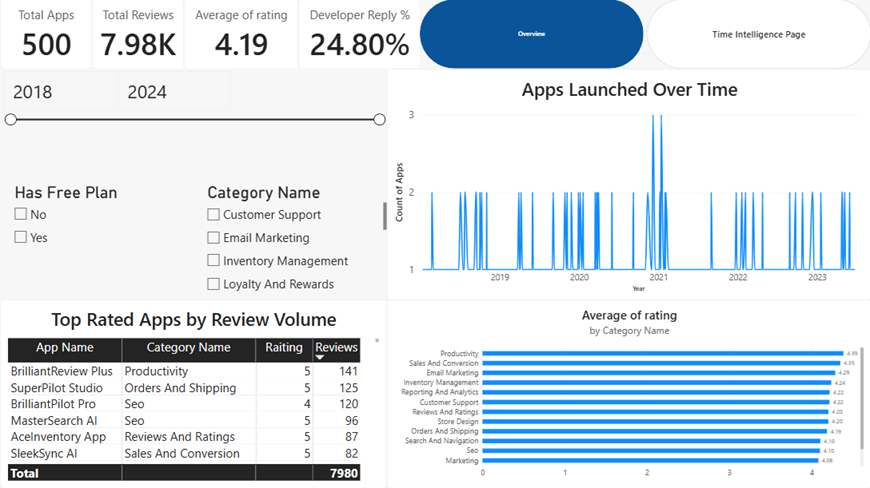

Layout of this report page (visuals, bound fields, positions):
{"tool":"powerbi","page":{"name":"Overview","canvas":[1920,1080],"ordinal":0},"visuals":[{"type":"cardVisual","fields":{"Data":["Count(apps.app_id)"]},"box":[0,0,202.5,154.5],"z":0},{"type":"cardVisual","fields":{"Data":["Sum(reviews.review_id)"]},"box":[202.5,0,202.5,154.5],"z":1000},{"type":"cardVisual","fields":{"Data":["Avg(reviews.rating)"]},"box":[405,0,252.6,154.5],"z":2000},{"type":"cardVisual","fields":{"Data":["reviews.Developer Reply %"]},"box":[657.5,0,267.2,154.5],"z":3000},{"type":"slicer","fields":{"Values":["apps.category_name"]},"box":[448.7,405.3,474.7,251.4],"z":4000},{"type":"slicer","fields":{"Values":["dim_date.Year"]},"box":[0,153.9,923.4,251.4],"z":5000},{"type":"slicer","fields":{"Values":["apps.has_free_plan"]},"box":[23.8,405.3,424.8,251.4],"z":6000},{"type":"lineChart","fields":{"Y":["Count(apps.app_id)"],"Category":["apps.launch_date.Variation.Date Hierarchy.Year","apps.launch_date.Variation.Date Hierarchy.Quarter","apps.launch_date.Variation.Date Hierarchy.Month","apps.launch_date.Variation.Date Hierarchy.Day"]},"box":[923.4,153.9,997.1,509.4],"z":7000},{"type":"barChart","fields":{"Category":["apps.category_name"],"Y":["Avg(reviews.rating)"]},"box":[750,663.3,1170.5,416.2],"z":8000},{"type":"tableEx","fields":{"Values":["apps.app name","apps.category_name","reviews.rating"]},"box":[0,663.3,750,416.2],"z":9000},{"type":"pageNavigator","box":[925.5,0,994.9,153.9],"z":10000}]}

Visuals, with their boxes in screenshot pixels (x1, y1, x2, y2), scaled from the page's 1920x1080 canvas onto the 870x488 screenshot:
cardVisual - Count(apps.app_id): {"left": 0, "top": 0, "right": 92, "bottom": 70}
cardVisual - Sum(reviews.review_id): {"left": 92, "top": 0, "right": 184, "bottom": 70}
cardVisual - Avg(reviews.rating): {"left": 184, "top": 0, "right": 298, "bottom": 70}
cardVisual - reviews.Developer Reply %: {"left": 298, "top": 0, "right": 419, "bottom": 70}
slicer - apps.category_name: {"left": 203, "top": 183, "right": 418, "bottom": 297}
slicer - dim_date.Year: {"left": 0, "top": 70, "right": 418, "bottom": 183}
slicer - apps.has_free_plan: {"left": 11, "top": 183, "right": 203, "bottom": 297}
lineChart - Count(apps.app_id) x apps.launch_date.Variation.Date Hierarchy.Year: {"left": 418, "top": 70, "right": 869, "bottom": 300}
barChart - apps.category_name x Avg(reviews.rating): {"left": 340, "top": 300, "right": 869, "bottom": 487}
tableEx - apps.app name x apps.category_name: {"left": 0, "top": 300, "right": 340, "bottom": 487}
pageNavigator: {"left": 419, "top": 0, "right": 869, "bottom": 70}
